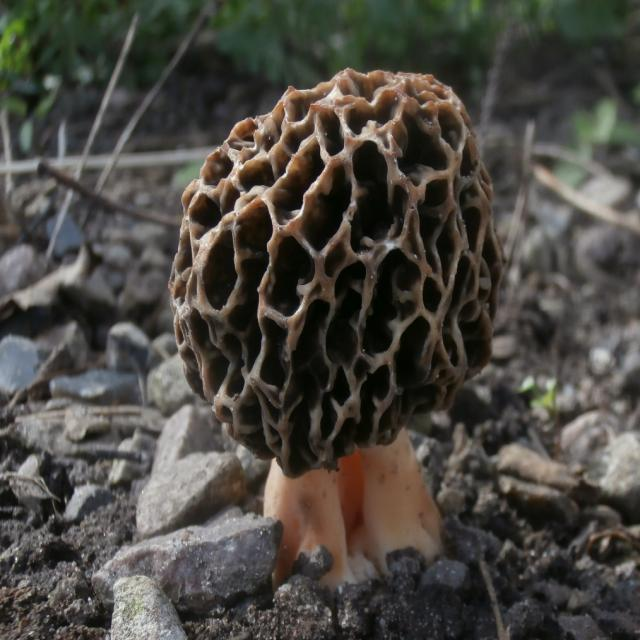Morchella esculenta: (167, 70, 505, 557)
